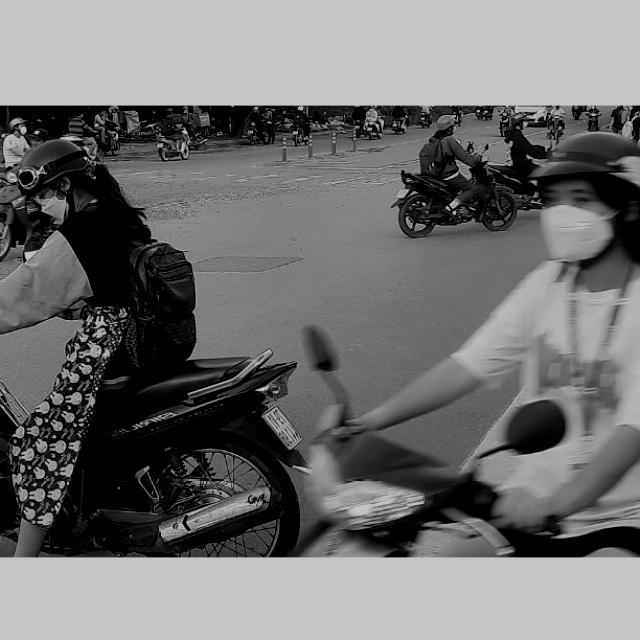Helmet: (535, 134, 640, 269), (18, 139, 89, 223), (434, 116, 458, 136)
